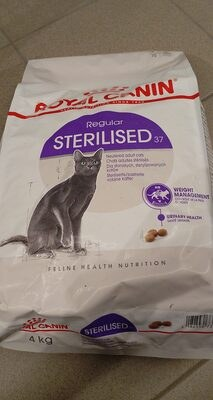regular sterilised 37: (11, 20, 202, 380)
